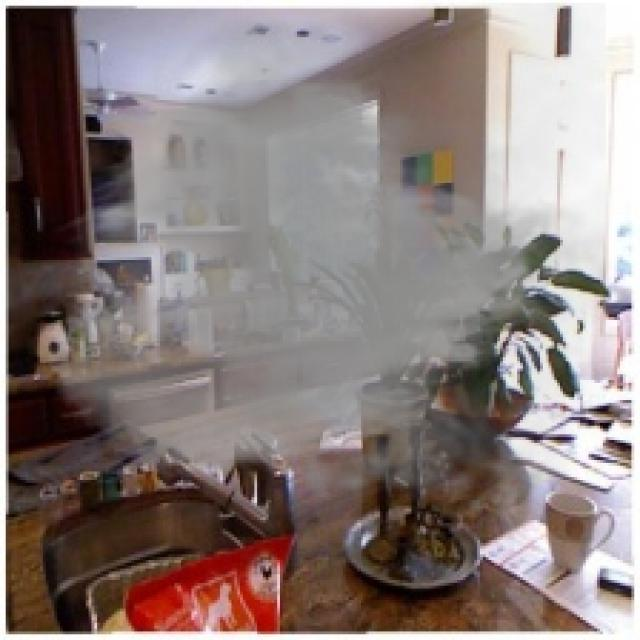smoke: (43, 3, 606, 534)
